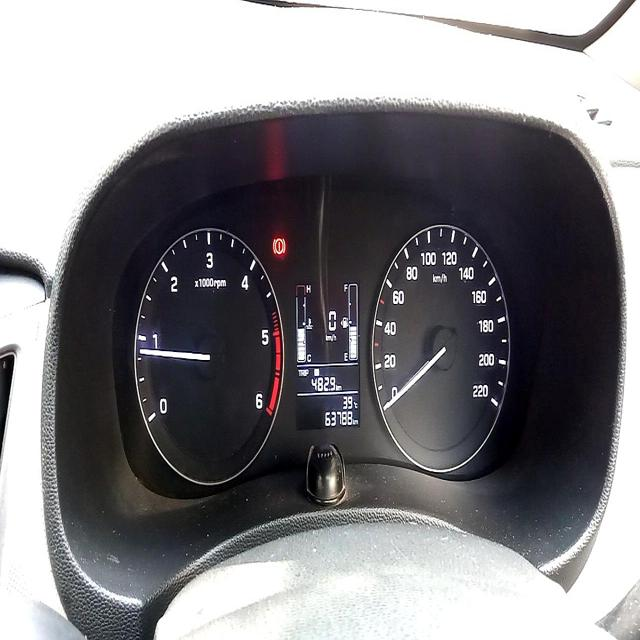odometer: (324, 408, 354, 426)
